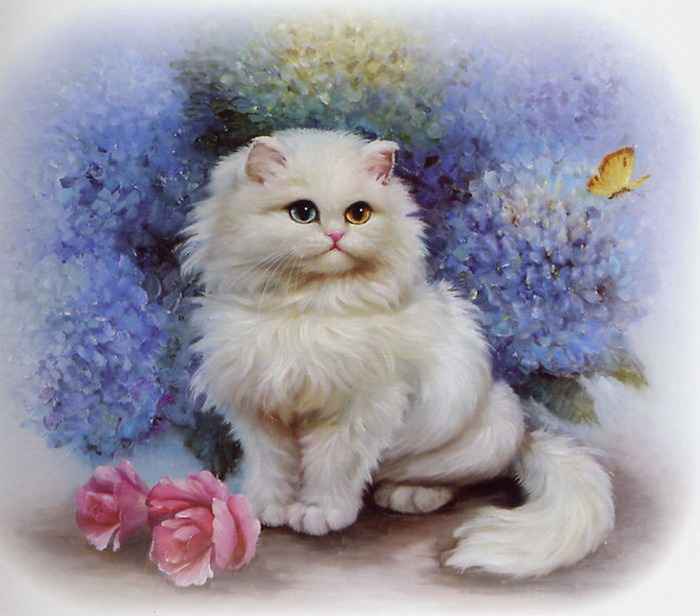cat: (204, 133, 423, 463)
